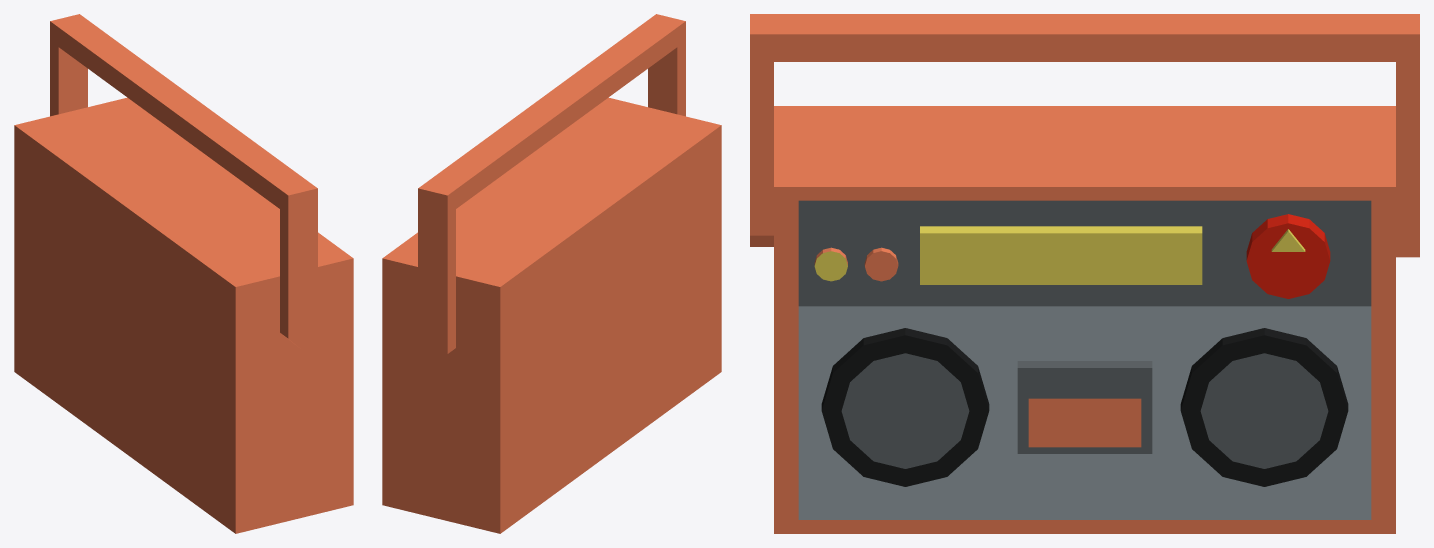
Rendered from Radio.fbx.
The picture shows the model from 3 angles, left to right: view 1: azimuth 30°, elevation 25°; view 2: azimuth 150°, elevation 25°; view 3: azimuth 270°, elevation 25°; orthographic projection. The views are drawn at different scales.
Visible parts, largest first — view 1: Radio; view 2: Radio; view 3: Radio, Volume Button.
Part boxes in pixels (x1,y1,x2,y2): Radio: (14,14,353,533); Radio: (382,14,721,533); Radio: (750,14,1419,533); Volume Button: (1246,214,1330,298).
Size of the model in its own units: 0.1145 by 0.2705 by 0.3499.
